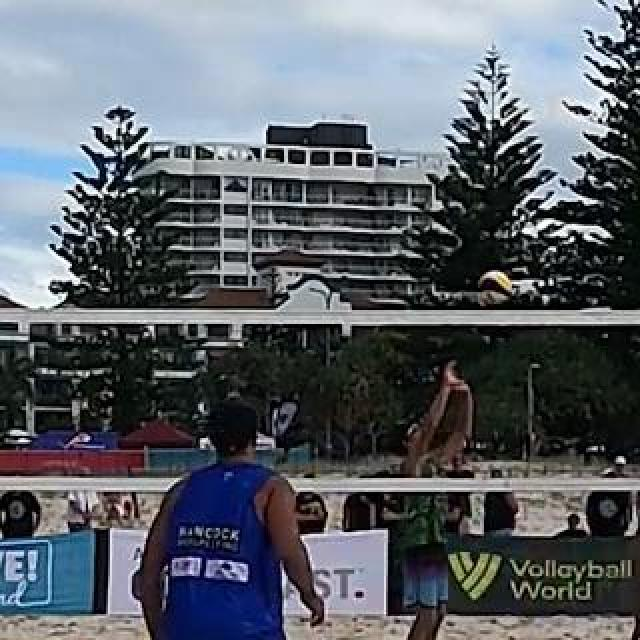volleyball: (480, 273, 512, 301)
